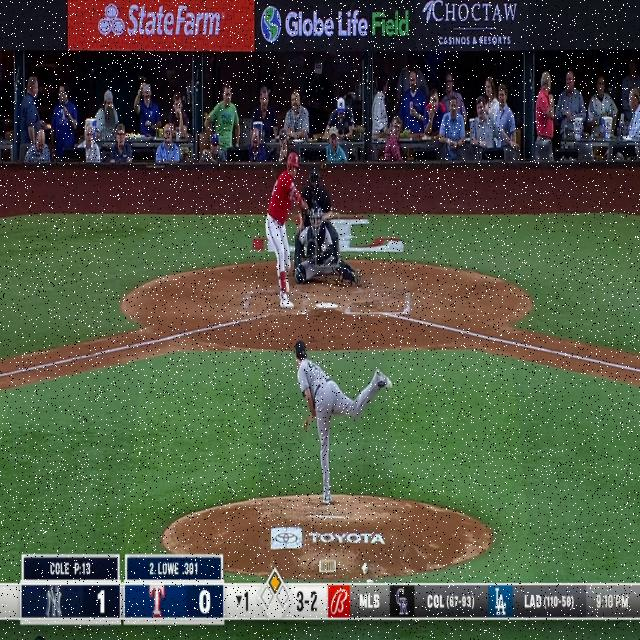baseball: (322, 244, 326, 252)
